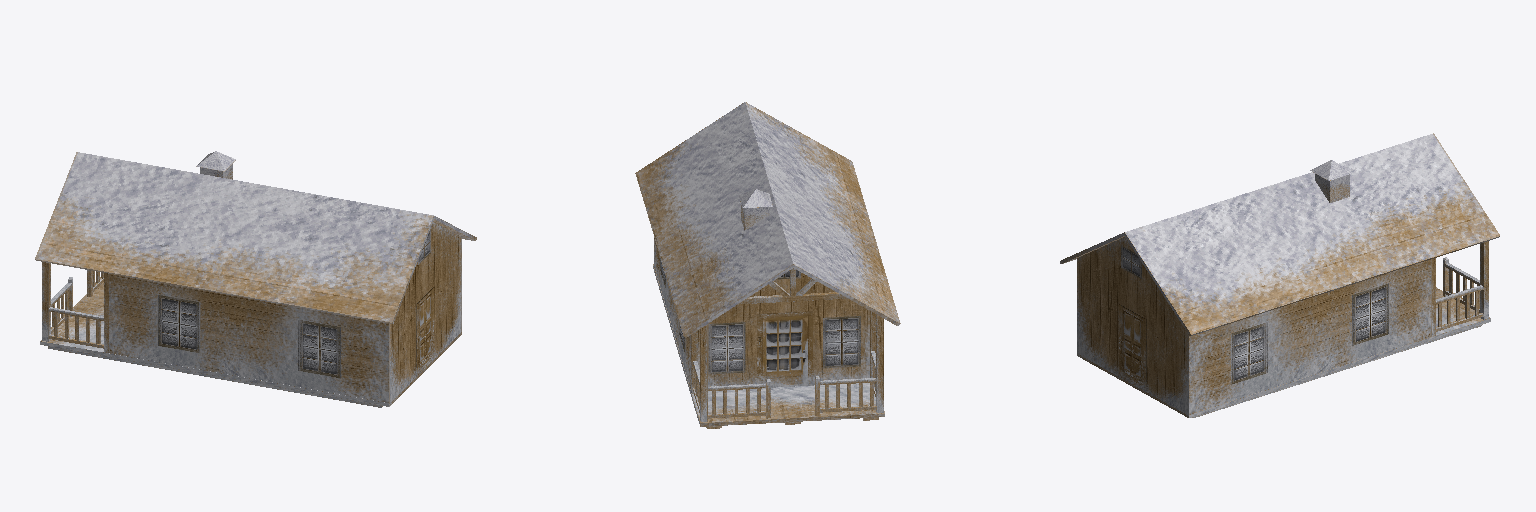
3 renders of one model, left to right at view 1: azimuth 30°, elevation 25°; view 2: azimuth 150°, elevation 25°; view 3: azimuth 270°, elevation 25°, orthographic.
Visible parts, largest first — view 1: Snow_covered_CottageOBJ.001; view 2: Snow_covered_CottageOBJ.001; view 3: Snow_covered_CottageOBJ.001.
Boxes of the visible parts, <box> form: Snow_covered_CottageOBJ.001: <box>35,151,476,407</box>; Snow_covered_CottageOBJ.001: <box>635,102,900,428</box>; Snow_covered_CottageOBJ.001: <box>1060,133,1499,417</box>.
Size of the model in its own units: 30.57 by 14.76 by 33.02.
1 materials, 1 textured.